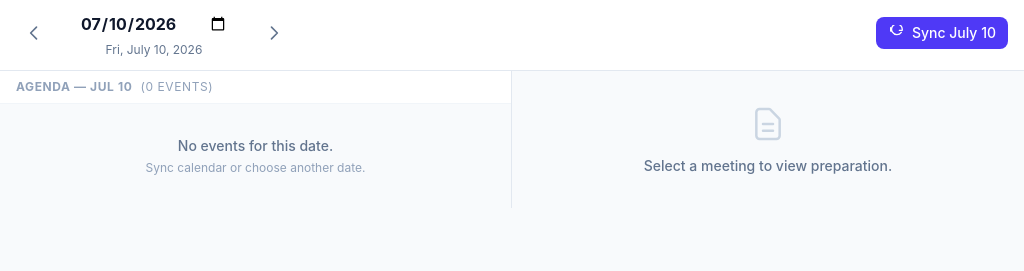
Test: MeetingsView — Calendar Sync › shows legitimate zero-event feedback
The width and height of the screenshot is (1024, 271).
Step 1. Click the button "Sync July 10" → point(942, 33), box [876,17,1008,49]
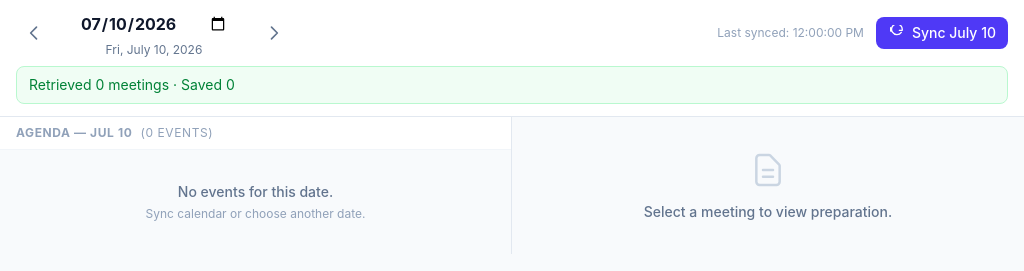
Expected: the text "Retrieved 0 meetings · Saved 0" is shown, [16,66,1008,104]
